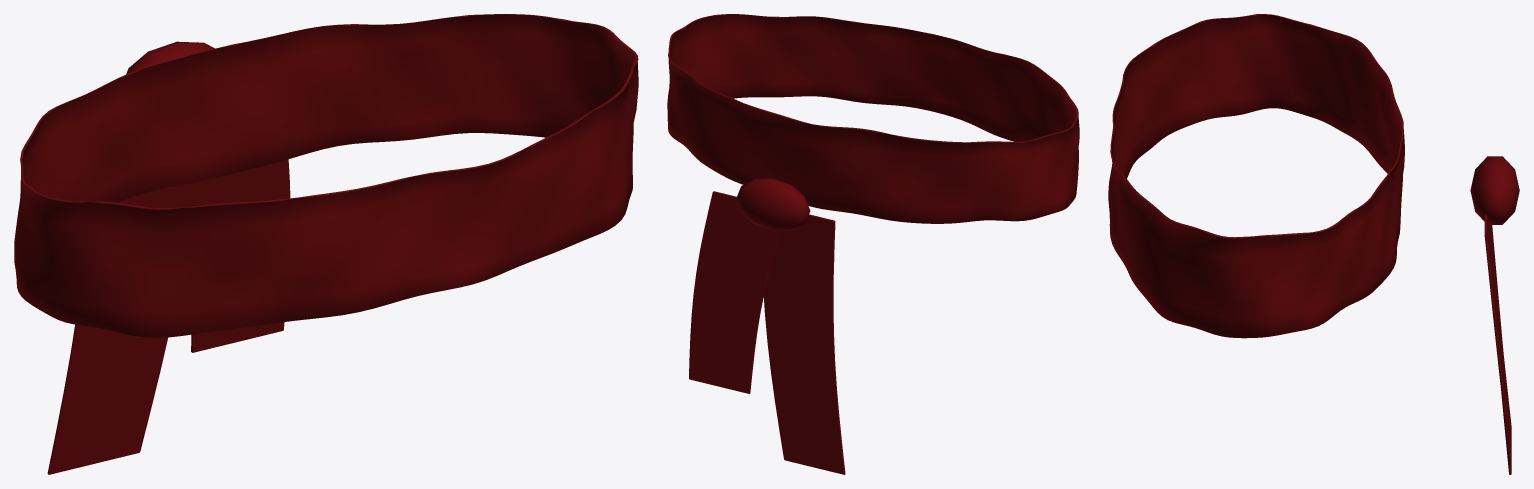
The model's file is headband_rambo_red.fbx.
3 renders of one model, left to right at view 1: azimuth 30°, elevation 25°; view 2: azimuth 150°, elevation 25°; view 3: azimuth 270°, elevation 25°, orthographic. The views are drawn at different scales.
Visible parts, largest first — view 1: HeadBand_Ribbon, HeadBand_Tail_Long, HeadBand_Tail_Short, HeadBand_Knot; view 2: HeadBand_Ribbon, HeadBand_Tail_Long, HeadBand_Tail_Short, HeadBand_Knot; view 3: HeadBand_Ribbon, HeadBand_Knot, HeadBand_Tail_Short.
Part boxes in pixels (bbox=[...]): HeadBand_Ribbon: bbox=[14, 14, 638, 337]; HeadBand_Tail_Long: bbox=[47, 182, 195, 474]; HeadBand_Tail_Short: bbox=[191, 159, 290, 352]; HeadBand_Knot: bbox=[126, 41, 214, 74]; HeadBand_Ribbon: bbox=[667, 14, 1079, 223]; HeadBand_Tail_Long: bbox=[763, 214, 845, 474]; HeadBand_Tail_Short: bbox=[689, 191, 780, 393]; HeadBand_Knot: bbox=[736, 178, 810, 231]; HeadBand_Ribbon: bbox=[1108, 14, 1404, 338]; HeadBand_Knot: bbox=[1470, 156, 1519, 224]; HeadBand_Tail_Short: bbox=[1484, 214, 1511, 461].
Bounding box in the file's own units: 26.52 × 19.45 × 20.
